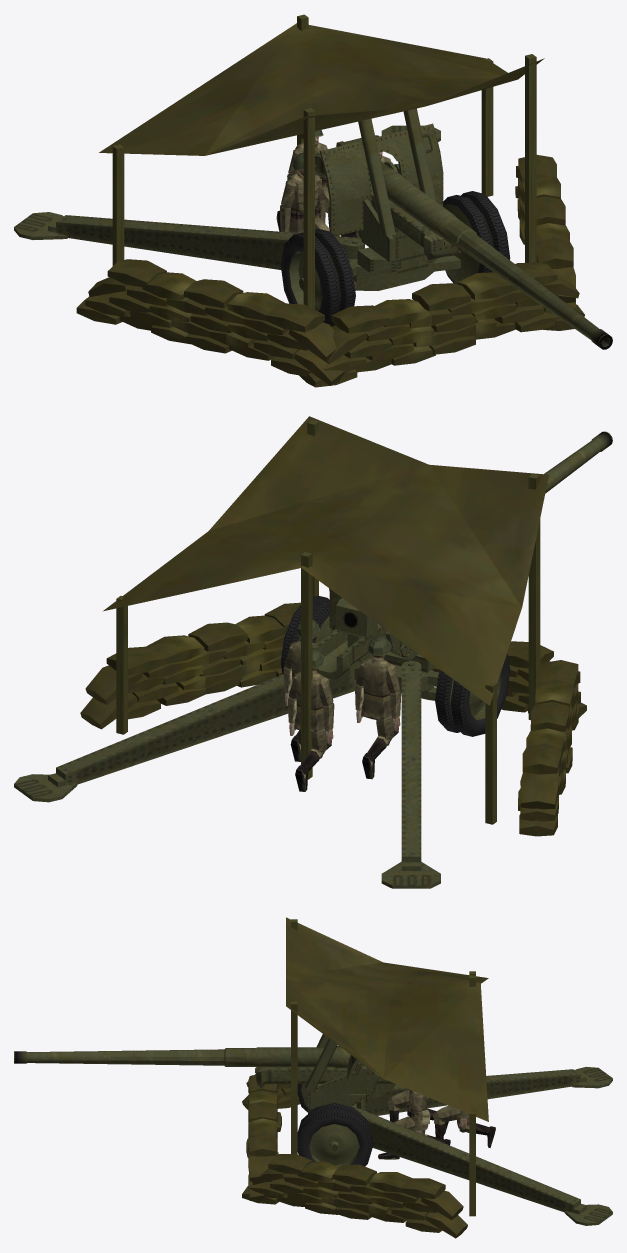
The model's file is RUSA19_Stationary.dae.
The picture shows the model from 3 angles, top to bottom: view 1: azimuth 30°, elevation 25°; view 2: azimuth 150°, elevation 25°; view 3: azimuth 270°, elevation 25°; orthographic projection. The views are drawn at different scales.
Parts seen in each view (by area): view 1: base, turret, trail2, wheels, barrel, sleeve, carriage, torso2; view 2: base, trail1, trail2, wheels, barrel, sleeve, torso2, turret, torso3, carriage; view 3: base, trail1, barrel, wheels, trail2, turret, sleeve.
Boxes of the visible parts, x1,y1,x2,y2 form: base: (76, 14, 584, 387); turret: (319, 108, 443, 273); trail2: (14, 212, 364, 269); wheels: (280, 191, 510, 326); barrel: (336, 138, 612, 349); sleeve: (315, 141, 459, 260); carriage: (350, 239, 460, 290); torso2: (288, 170, 321, 233); base: (80, 416, 586, 836); trail1: (14, 661, 361, 802); trail2: (381, 660, 440, 888); wheels: (280, 595, 510, 736); barrel: (335, 431, 612, 647); sleeve: (312, 625, 386, 679); torso2: (359, 656, 392, 721); turret: (329, 588, 435, 672); torso3: (292, 670, 325, 733); carriage: (354, 662, 439, 700); base: (242, 917, 488, 1238); trail1: (355, 1108, 612, 1225); barrel: (14, 1046, 350, 1068); wheels: (297, 1046, 372, 1166); trail2: (356, 1066, 612, 1115); turret: (305, 1034, 378, 1113); sleeve: (255, 1061, 395, 1099).
Size of the model in its own units: 51.33 by 73.85 by 26.09.
